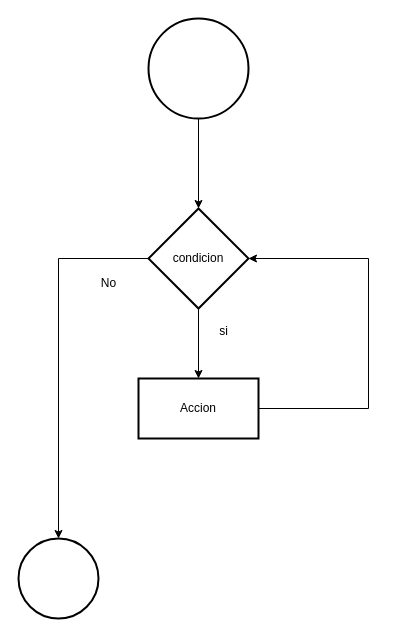
This 394x636 diagram has some shape labels left out. Here are the shapes that lost their labels. From the top down, the centre of each, then its label:
At (198,68): "Inicio".
At (58,578): "Fin".
